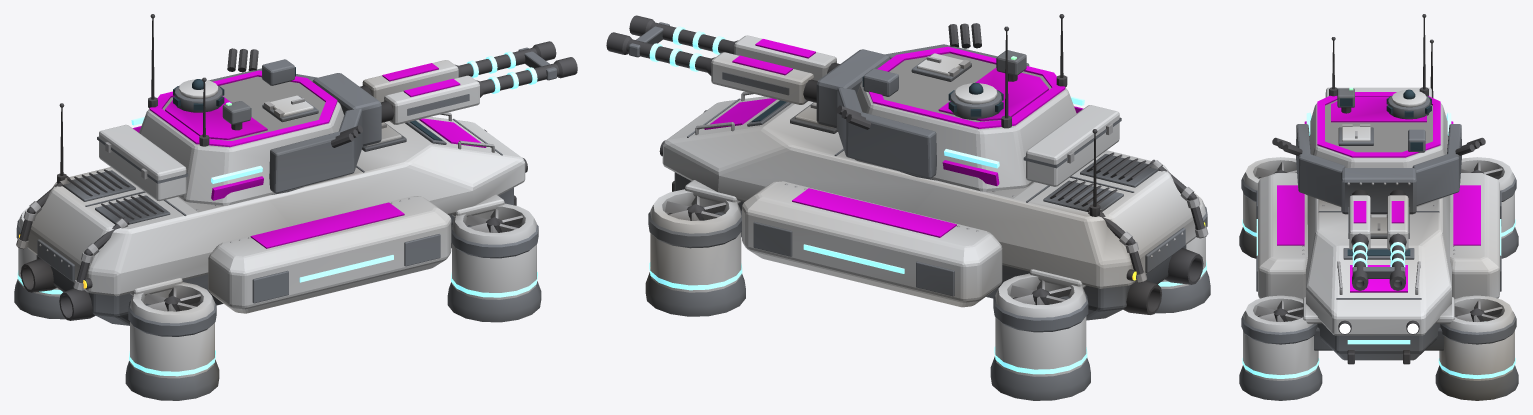
File: hover_tank.glb
3 renders of one model, left to right at view 1: azimuth 30°, elevation 25°; view 2: azimuth 150°, elevation 25°; view 3: azimuth 270°, elevation 25°, orthographic. The views are drawn at different scales.
Visible parts, largest first — view 1: Body, Turret, Barrel; view 2: Body, Turret, Barrel; view 3: Body, Turret, Barrel.
Boxes of the visible parts, left/top/right/bottom form: Body: left=14, top=103, right=541, bottom=400; Turret: left=97, top=14, right=381, bottom=205; Barrel: left=360, top=41, right=577, bottom=124; Body: left=645, top=91, right=1210, bottom=400; Turret: left=816, top=14, right=1121, bottom=191; Barrel: left=606, top=15, right=839, bottom=104; Body: left=1239, top=39, right=1518, bottom=400; Turret: left=1272, top=14, right=1485, bottom=214; Barrel: left=1348, top=189, right=1409, bottom=290.
Size of the model in its own units: 4.18 by 2.26 by 2.22.
Materials: 1 (1 with a texture image).
